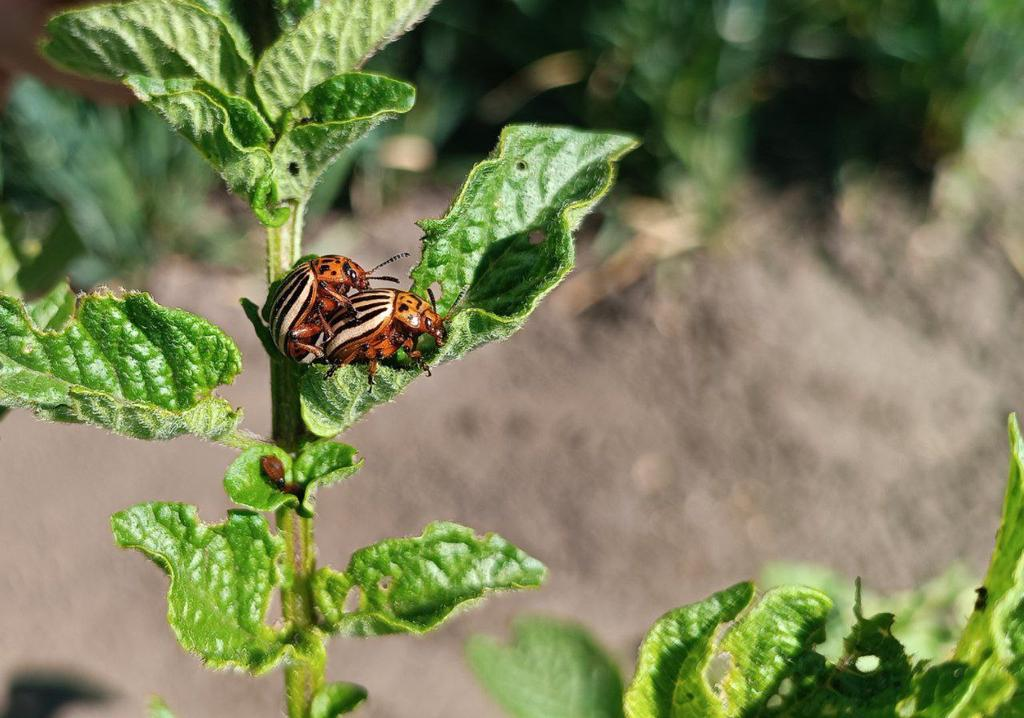potato_beetle: (246, 232, 382, 388), (314, 266, 454, 404)
